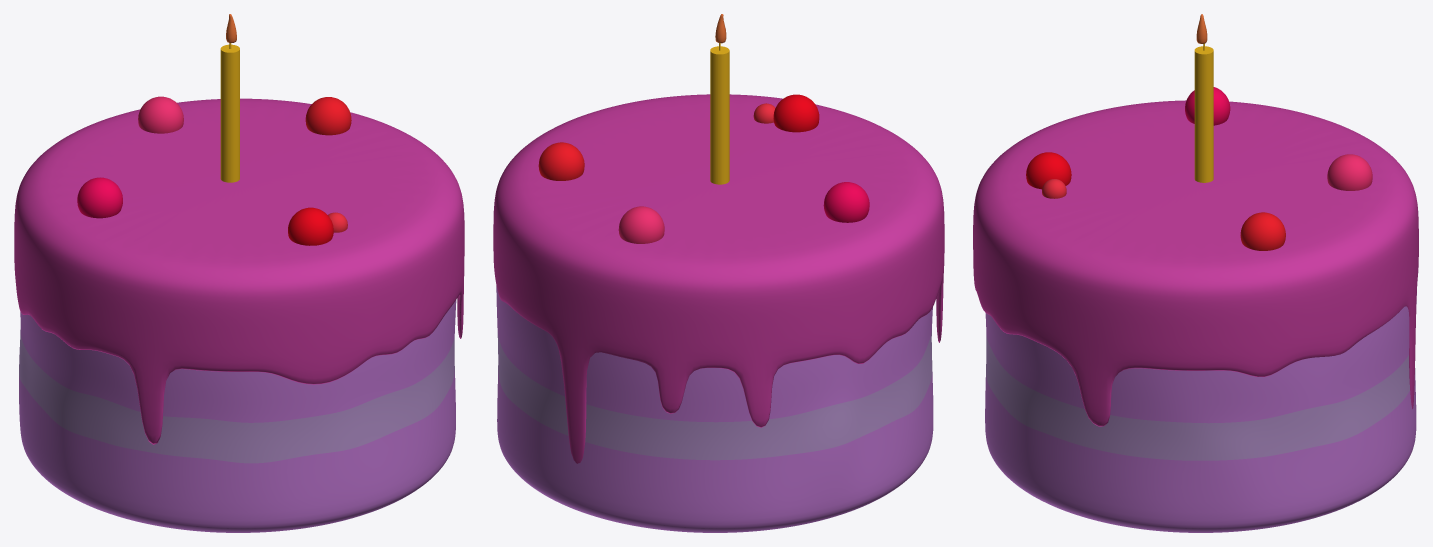
Rendered from CakeIsALie.fbx.
3 renders of one model, left to right at view 1: azimuth 30°, elevation 25°; view 2: azimuth 150°, elevation 25°; view 3: azimuth 270°, elevation 25°, orthographic.
Parts seen in each view (by area): view 1: Cylinder.001, Cylinder, Cylinder.002, Sphere.002, Sphere, Sphere.003, Sphere.001; view 2: Cylinder.001, Cylinder, Cylinder.002, Sphere.002, Sphere, Sphere.003, Sphere.001; view 3: Cylinder.001, Cylinder, Cylinder.002, Sphere, Sphere.001, Sphere.003, Sphere.002.
Boxes of the visible parts, x1=… form: Cylinder.001: x1=14, y1=98, x2=464, y2=444; Cylinder: x1=19, y1=300, x2=456, y2=532; Cylinder.002: x1=220, y1=43, x2=239, y2=182; Sphere.002: x1=77, y1=177, x2=122, y2=218; Sphere: x1=305, y1=97, x2=351, y2=135; Sphere.003: x1=288, y1=207, x2=333, y2=245; Sphere.001: x1=138, y1=96, x2=183, y2=133; Cylinder.001: x1=493, y1=94, x2=944, y2=463; Cylinder: x1=496, y1=285, x2=933, y2=532; Cylinder.002: x1=710, y1=43, x2=729, y2=184; Sphere.002: x1=823, y1=182, x2=869, y2=222; Sphere: x1=538, y1=142, x2=584, y2=180; Sphere.003: x1=773, y1=94, x2=819, y2=132; Sphere.001: x1=618, y1=206, x2=664, y2=243; Cylinder.001: x1=973, y1=100, x2=1418, y2=426; Cylinder: x1=985, y1=293, x2=1416, y2=532; Cylinder.002: x1=1194, y1=43, x2=1213, y2=182; Sphere: x1=1240, y1=212, x2=1285, y2=250; Sphere.001: x1=1327, y1=154, x2=1372, y2=190; Sphere.003: x1=1026, y1=152, x2=1071, y2=189; Sphere.002: x1=1185, y1=87, x2=1230, y2=125.
Size of the model in its own units: 53.37 by 57.4 by 53.36.
